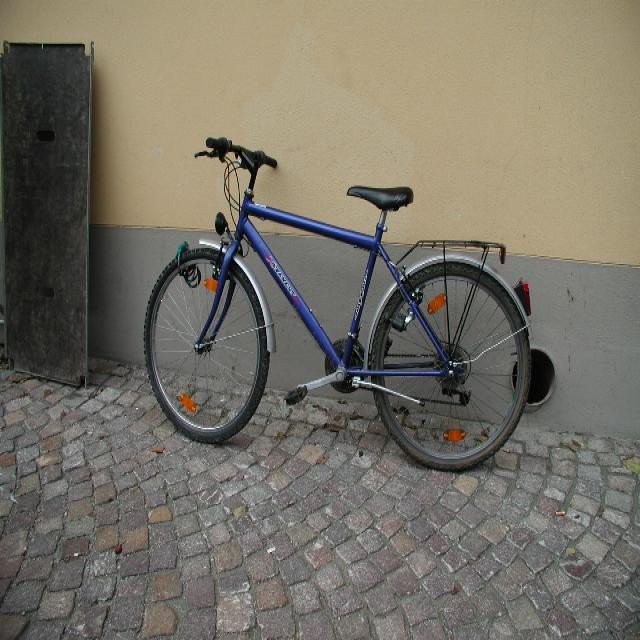bicycle: (142, 134, 532, 470)
